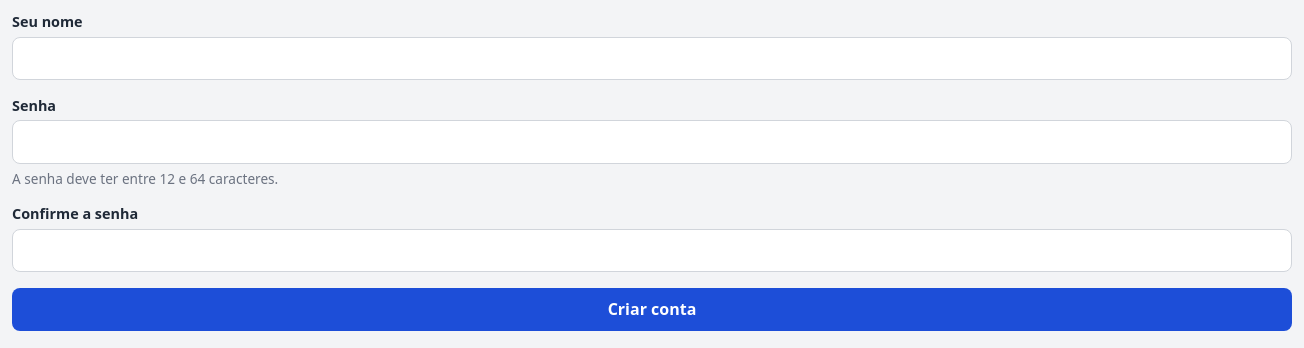
Scenario: AcceptInviteForm › reads the token from the fragment, removes it and creates the account
Type " Ana " into the field labelled "Seu nome" at [652, 58], box [12, 37, 1292, 80]
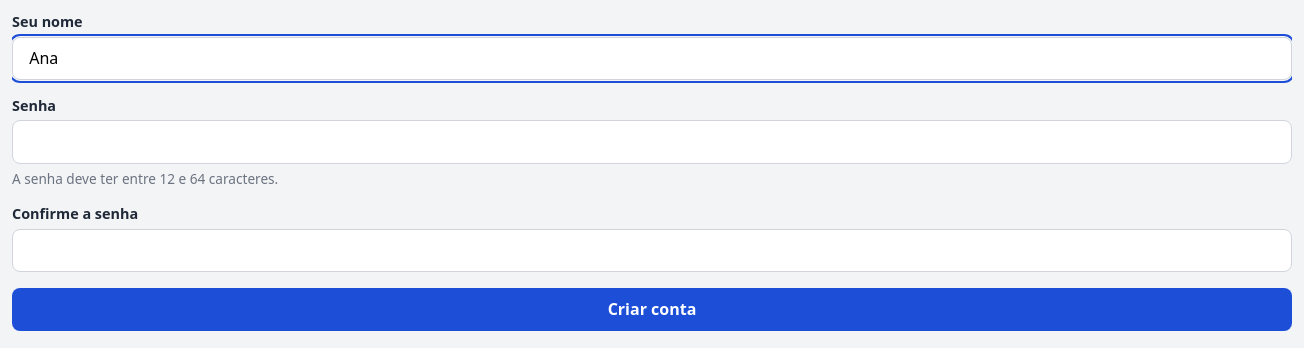
Type "senha do convidado longa" into the password field labelled "Senha" at [652, 142], box [12, 120, 1292, 164]
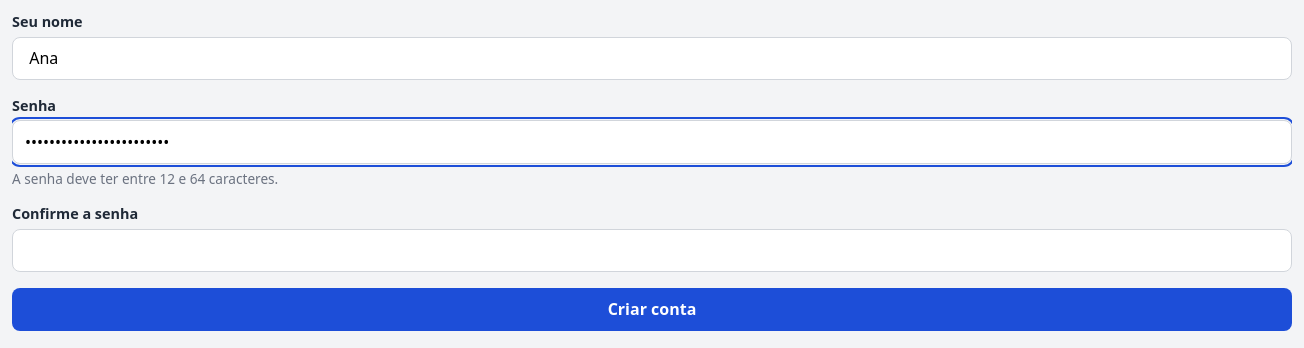
Type "senha do convidado longa" into the password field labelled "Confirme a senha" at [652, 250], box [12, 229, 1292, 272]
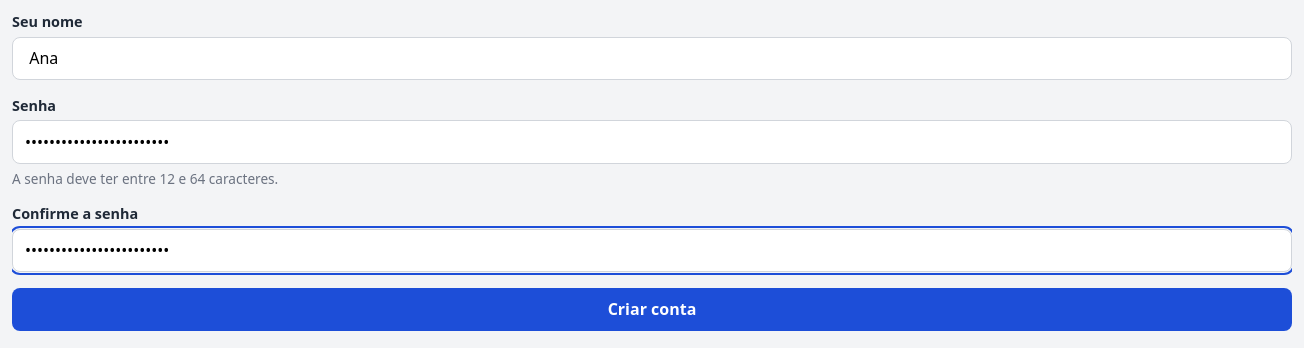
Click the button "Criar conta" at [652, 309], box [12, 288, 1292, 331]
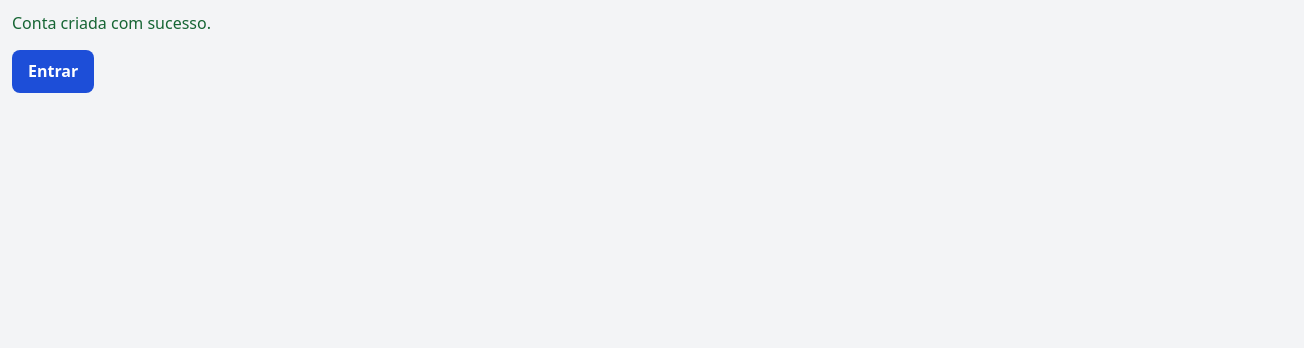
Expected: the message shows "Conta criada com sucesso.", [12, 12, 211, 34]
